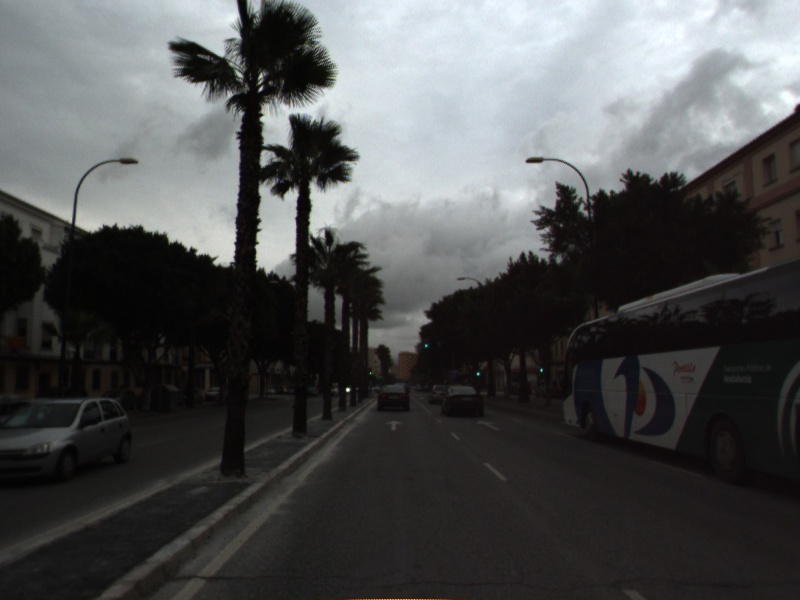STRAIGHT: (474, 418, 503, 433), (383, 418, 406, 433)
